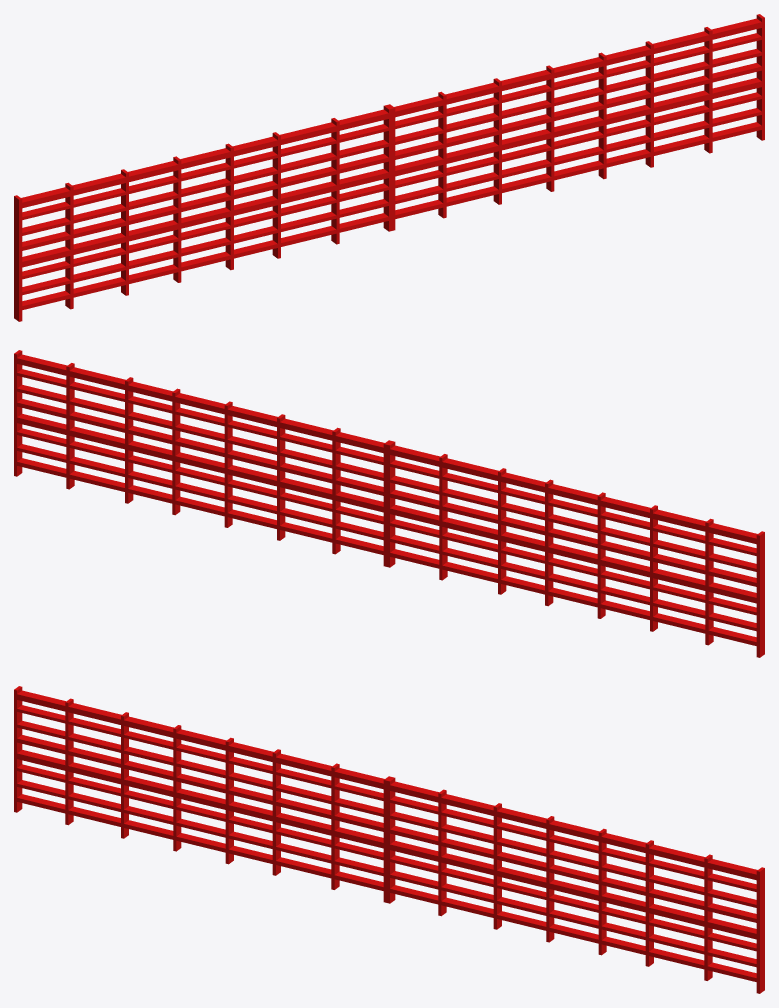
File: plane.007_lev3.glb
3 views of the same model, one above another, from view 1: azimuth 30°, elevation 25°; view 2: azimuth 150°, elevation 25°; view 3: azimuth 330°, elevation 25° (orthographic).
Parts seen in each view (by area): view 1: plane.007_lev3; view 2: plane.007_lev3; view 3: plane.007_lev3.
Boxes of the visible parts, box(x1,y1,x2,y2) form: plane.007_lev3: box(14, 14, 764, 321); plane.007_lev3: box(14, 350, 764, 657); plane.007_lev3: box(14, 686, 764, 993).
Bounding box in the file's own units: 4.83 × 0.756 × 0.0571.
